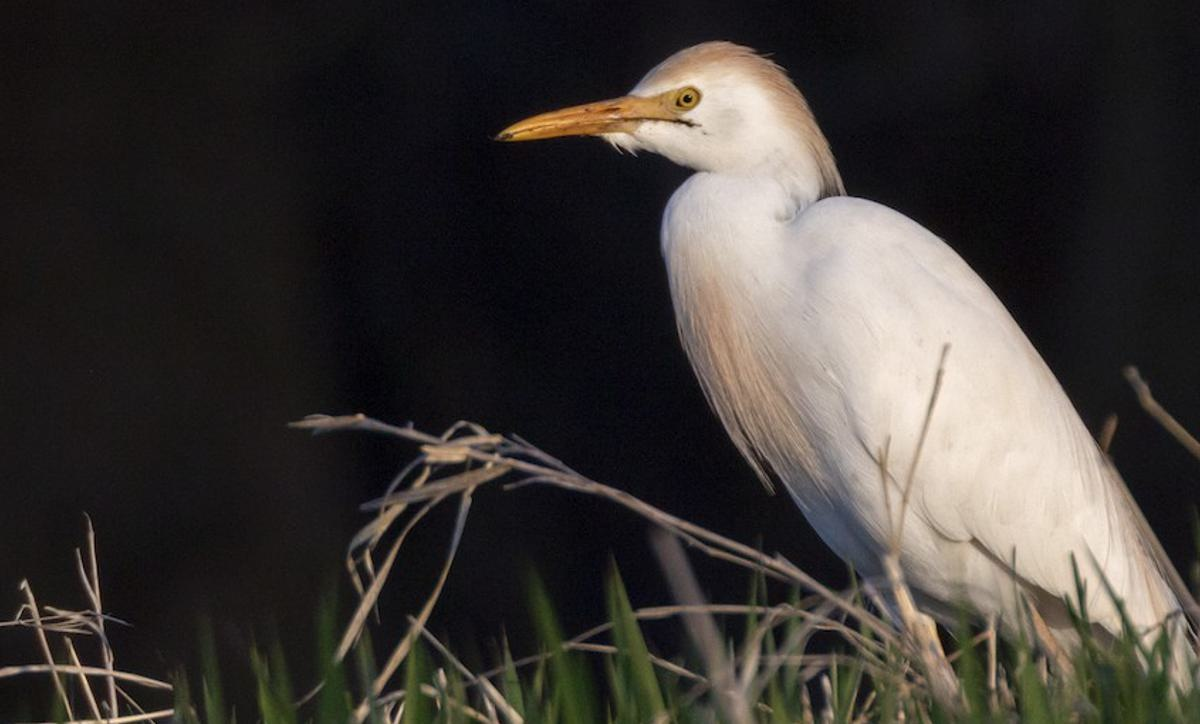egret: (499, 45, 1189, 657)
